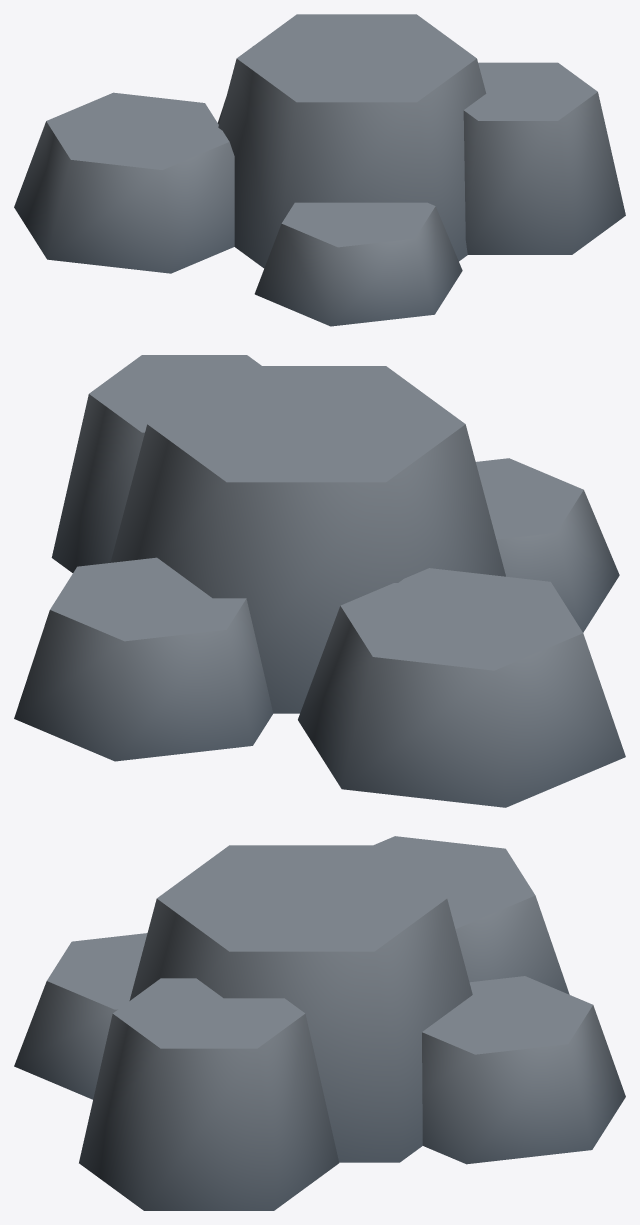
Rendered from rocks.glb.
3 views of the same model, one above another, from view 1: azimuth 30°, elevation 25°; view 2: azimuth 150°, elevation 25°; view 3: azimuth 270°, elevation 25° (orthographic). The views are drawn at different scales.
Visible parts, largest first — view 1: rocks; view 2: rocks; view 3: rocks.
Boxes of the visible parts, x1,y1,x2,y2 form: rocks: (14, 14, 625, 326); rocks: (14, 355, 625, 807); rocks: (14, 836, 625, 1210).
Bounding box in the file's own units: 1.11 × 0.3525 × 1.02.
